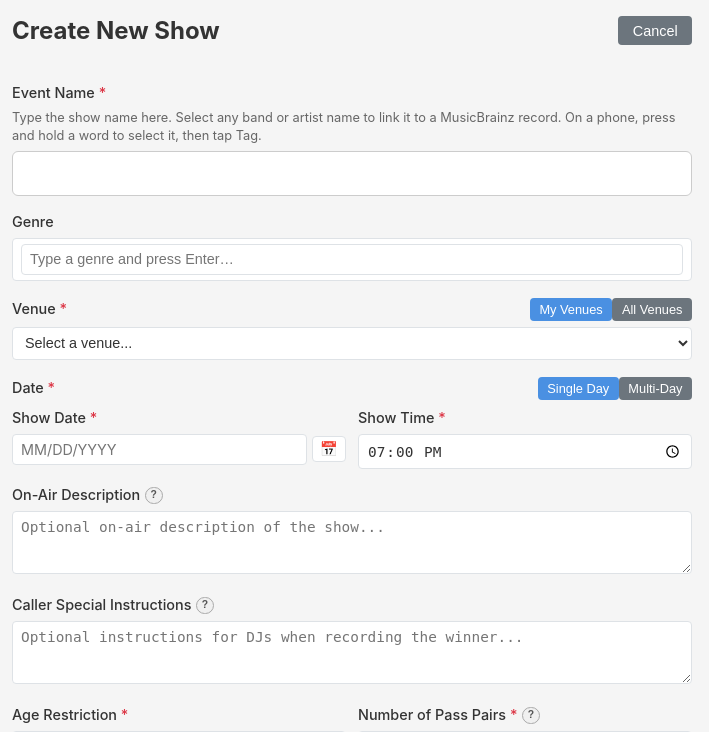
ShowForm › On-Air Description Language Check › should let the warning be dismissed
Type "This legendary band has tickets available." into the text box labelled "On-Air Description" at (352, 543), box [12,511,692,574]
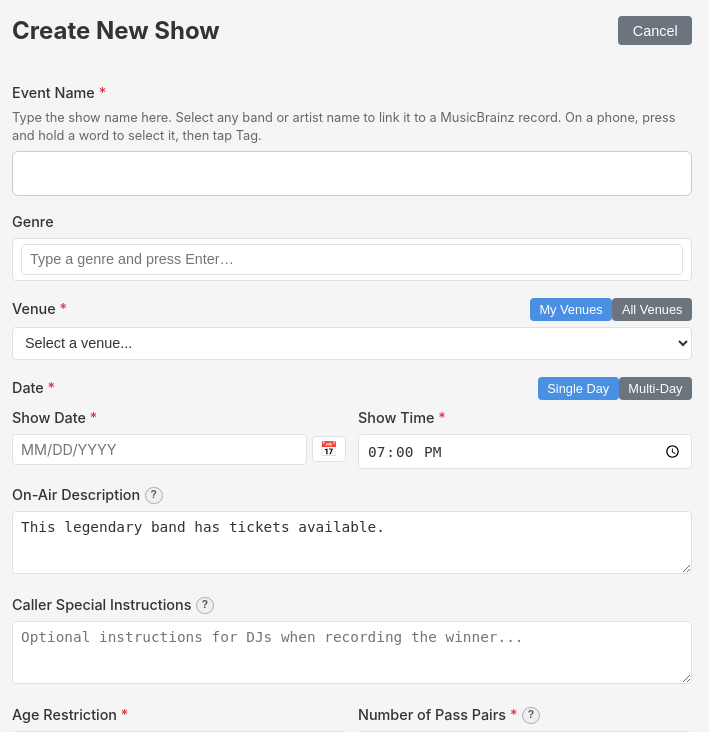
Leave the text box labelled "On-Air Description", box [12,511,692,574]
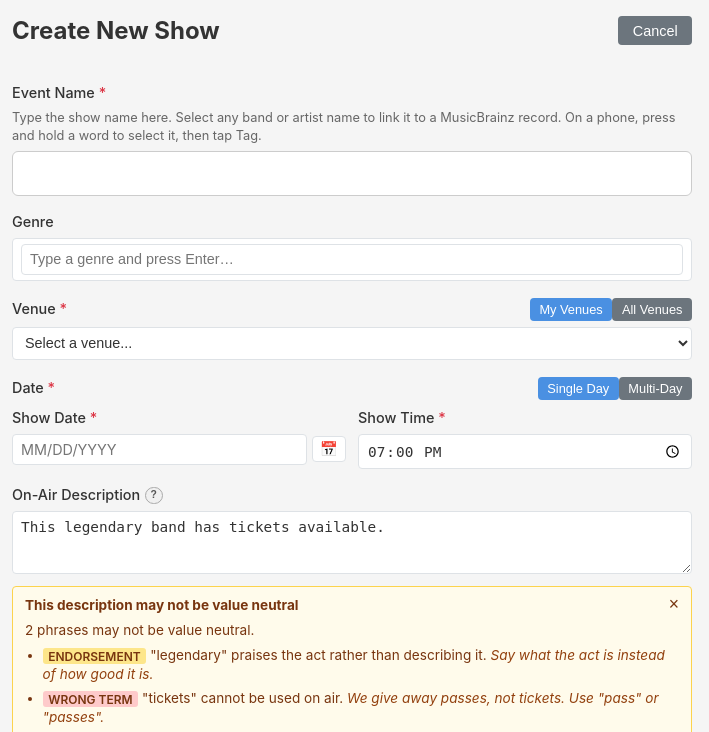
Expected: the text "This description may not be value neutral" is shown, [25,596,298,615]
Click the button named "dismiss description warning" at (674, 605), box [669,596,679,614]
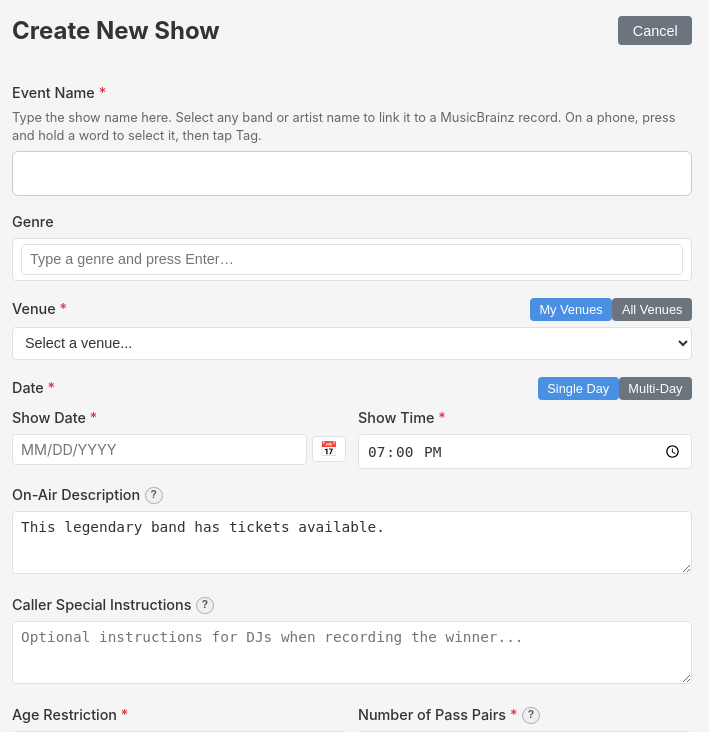
Expected: the text "This description may not be value neutral" is gone
